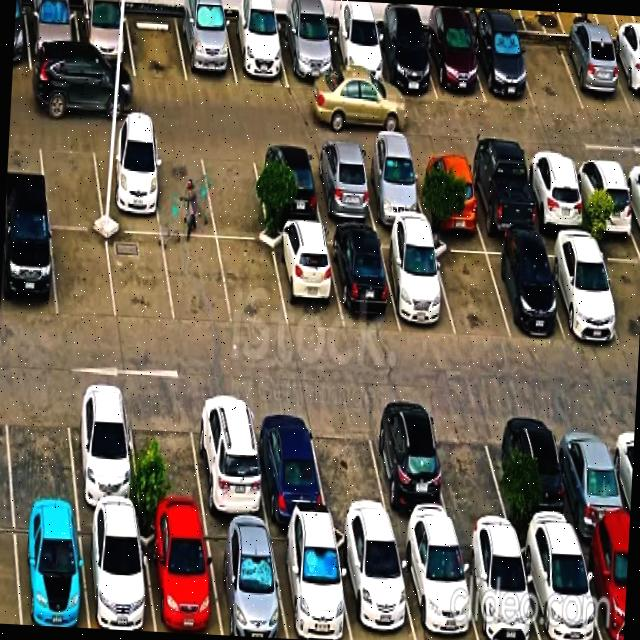empty: (5, 407, 76, 524), (133, 421, 200, 528), (314, 433, 384, 534), (437, 427, 499, 532), (440, 248, 505, 339), (52, 232, 114, 320), (156, 141, 212, 238), (108, 228, 168, 318), (210, 143, 268, 235), (39, 145, 100, 229), (220, 236, 278, 322), (165, 234, 222, 316), (128, 0, 184, 83), (520, 18, 574, 104)
occupied: (190, 426, 262, 536), (68, 422, 139, 528), (11, 528, 86, 628), (374, 425, 442, 534), (144, 530, 215, 634), (214, 534, 284, 638), (259, 432, 321, 544), (279, 535, 344, 640), (344, 543, 414, 640), (502, 422, 562, 533), (82, 531, 148, 631), (530, 547, 600, 640), (558, 244, 618, 351), (408, 542, 473, 640), (560, 434, 622, 536), (500, 242, 560, 344), (390, 237, 451, 336), (95, 134, 159, 228), (472, 544, 534, 640), (476, 152, 534, 252), (274, 232, 335, 324), (421, 143, 477, 243), (337, 230, 393, 330), (255, 144, 318, 231), (580, 157, 634, 255), (529, 157, 583, 254), (379, 4, 433, 98), (331, 0, 382, 94), (179, 0, 234, 87), (0, 228, 54, 315), (478, 8, 528, 101), (430, 8, 480, 100), (565, 13, 618, 99), (283, 0, 334, 88), (366, 149, 418, 235), (231, 0, 283, 85), (317, 148, 368, 230), (78, 0, 129, 71), (29, 0, 76, 70)
